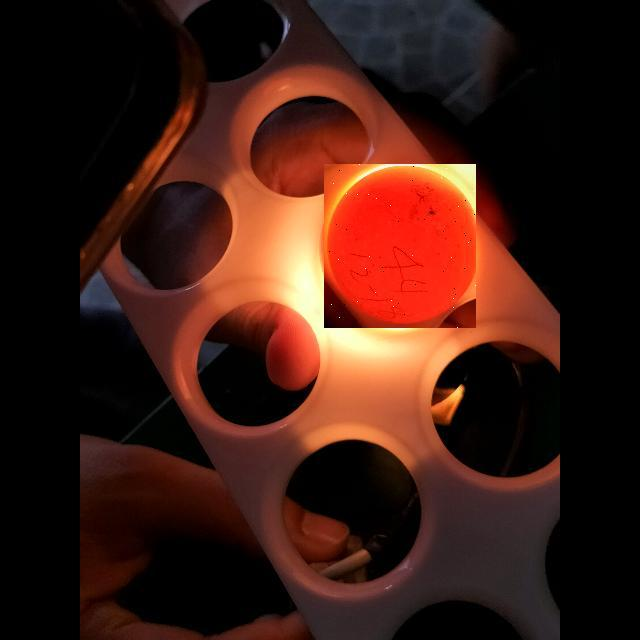Infertile: (324, 164, 476, 328)
